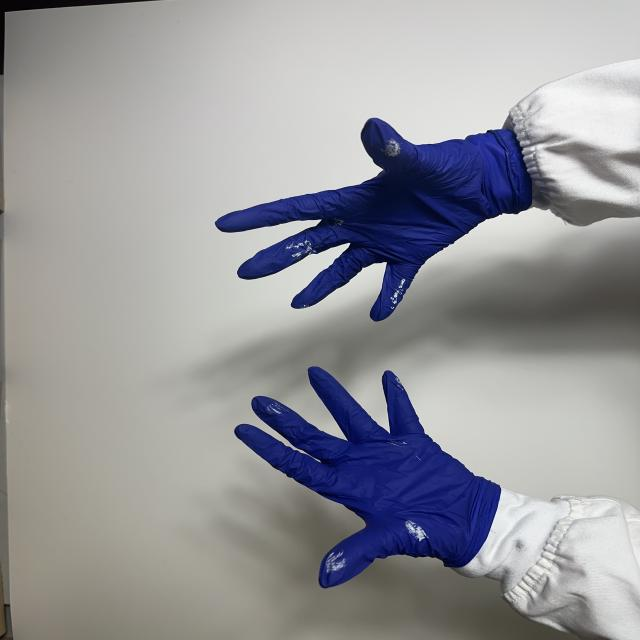gloves_contaminated: (216, 119, 531, 321), (234, 367, 500, 588)
